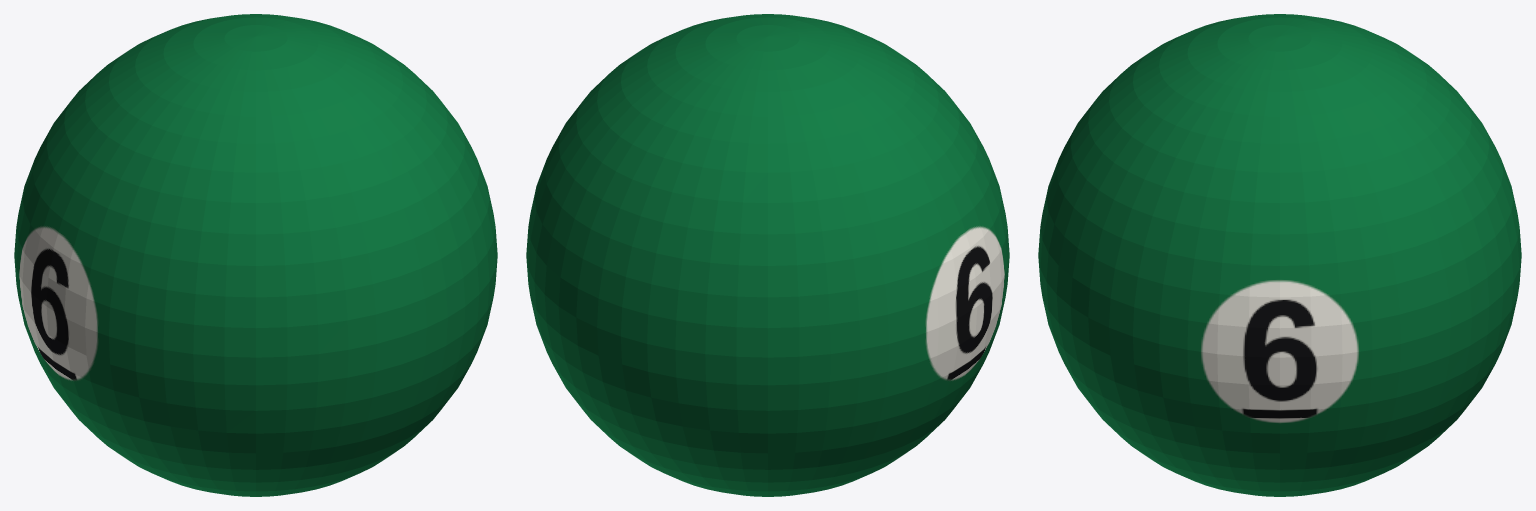
Rendered from ball_6.obj.
The picture shows the model from 3 angles, left to right: view 1: azimuth 30°, elevation 25°; view 2: azimuth 150°, elevation 25°; view 3: azimuth 270°, elevation 25°; orthographic projection.
Size of the model in its own units: 0.0571 by 0.0571 by 0.0571.
Materials: 1 (1 with a texture image).
